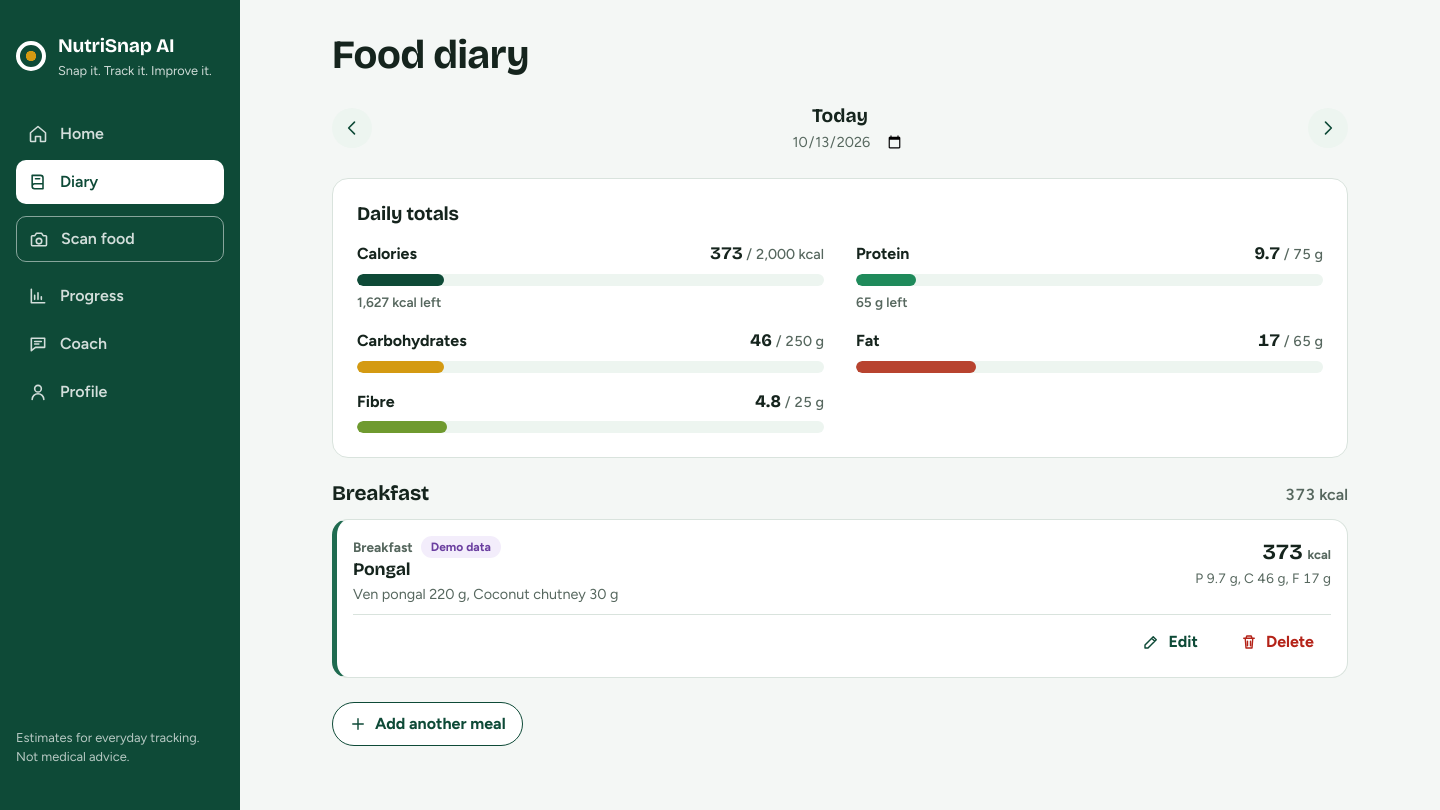
Test: user workflows › deletes a meal after confirmation and the totals update
The image size is (1440, 810).
Check: the heading "Pongal" is shown, box [353, 559, 410, 580]
Click the button "Delete" at (1277, 642), box [1223, 623, 1331, 661]
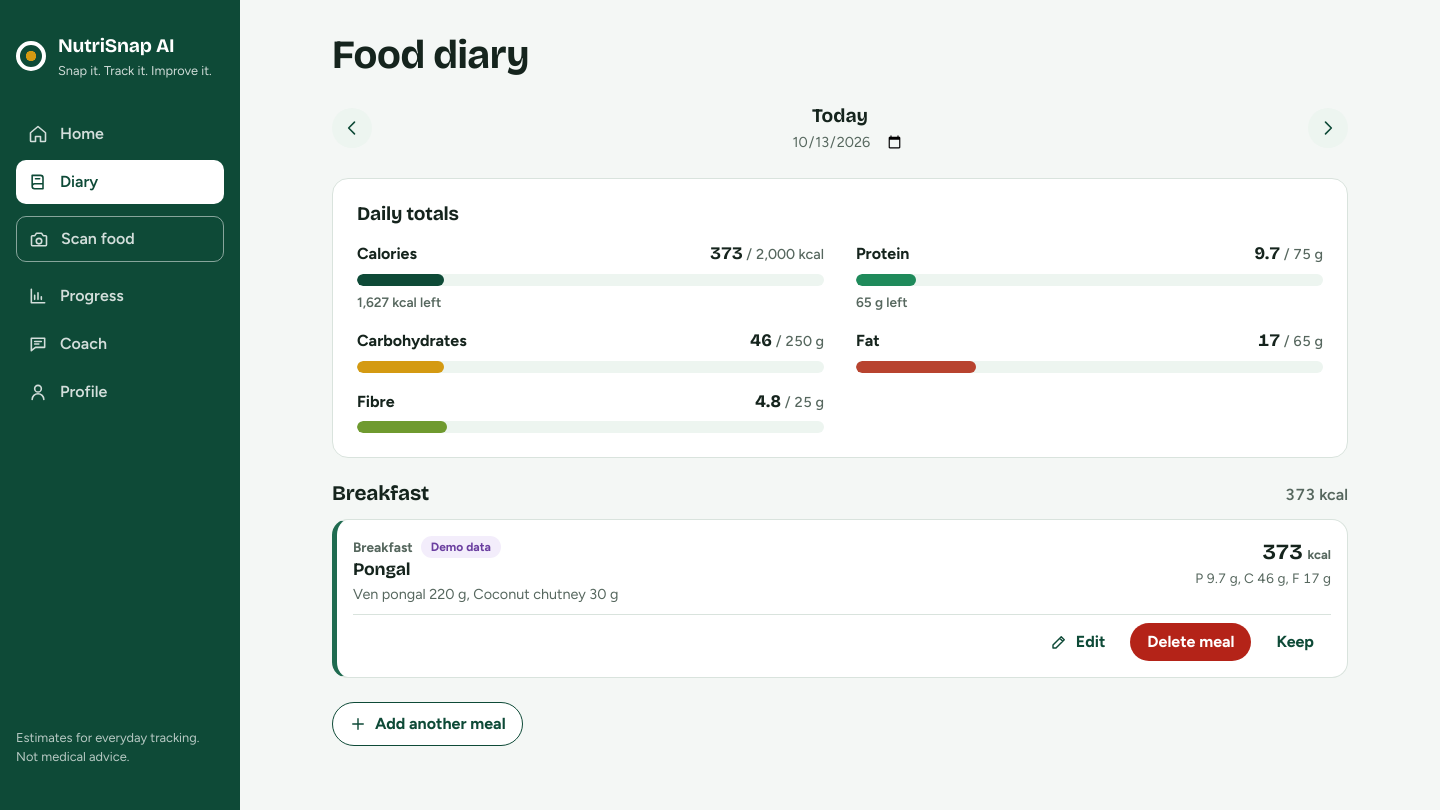
Click the button "Delete meal" at (1191, 642), box [1130, 623, 1252, 661]
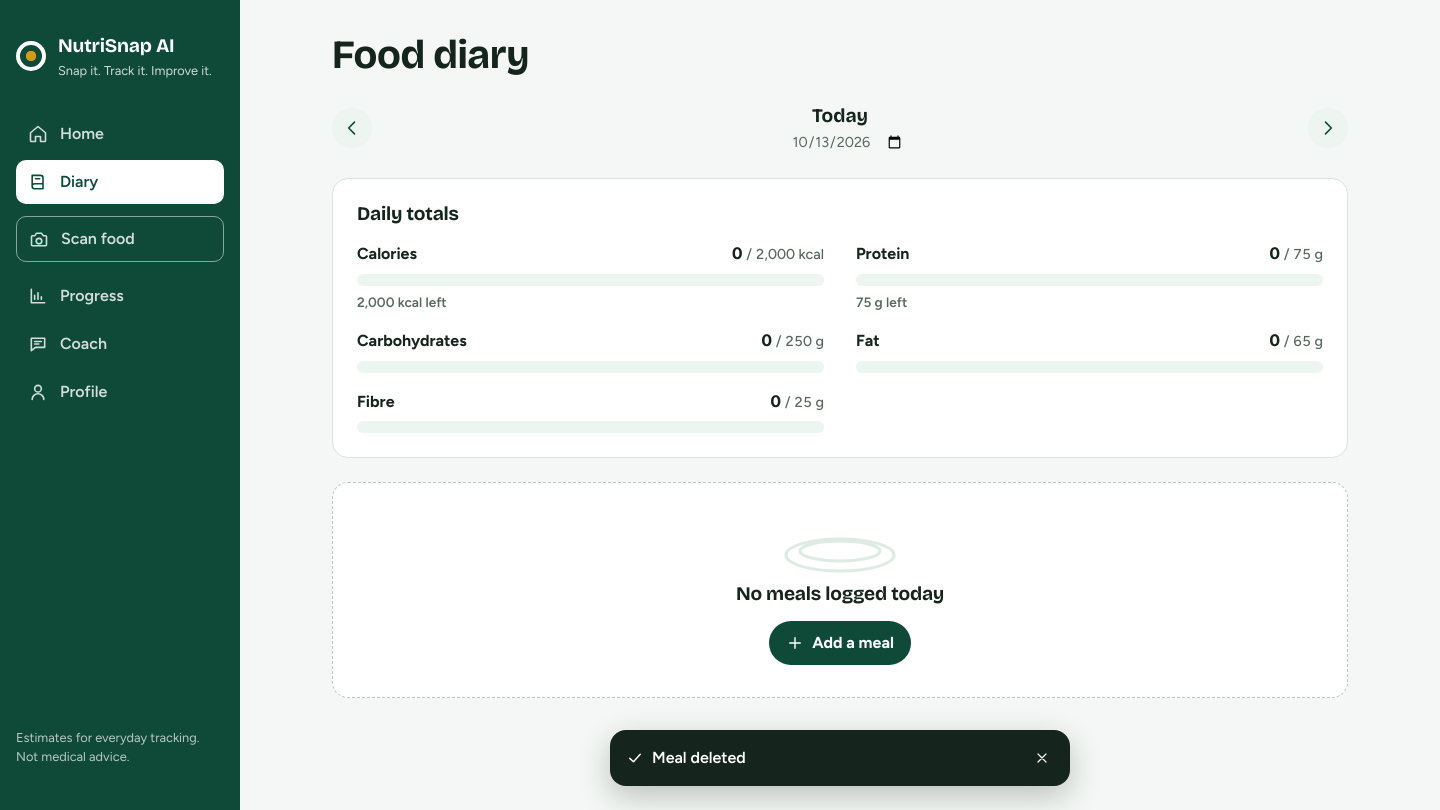
Check: the heading "Pongal" is gone
Check: the heading "No meals logged today" is shown, box [736, 583, 944, 605]
